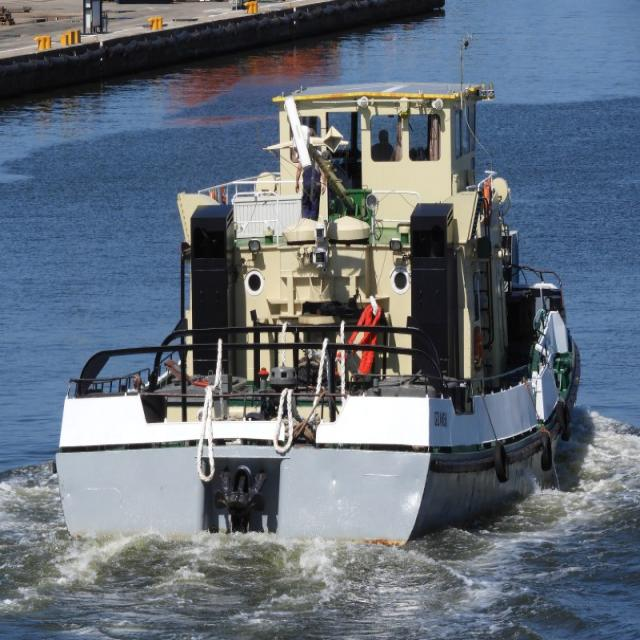tugboat: (50, 27, 589, 567)
